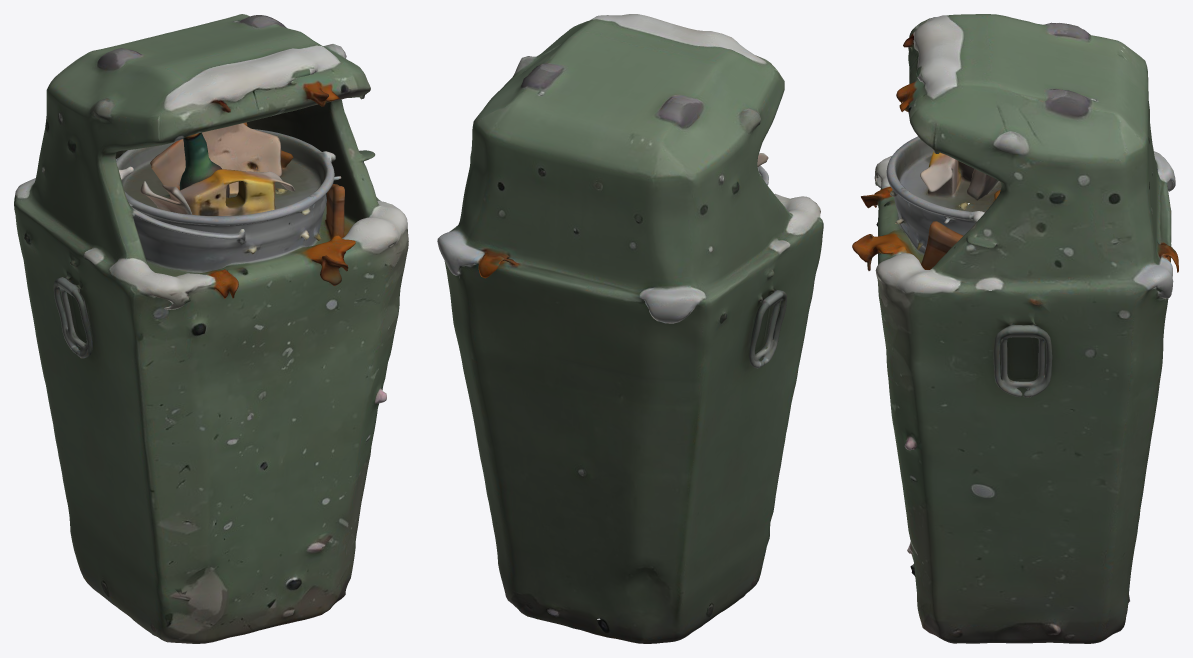
Rendered from g67_urn.glb.
3 renders of one model, left to right at view 1: azimuth 30°, elevation 25°; view 2: azimuth 150°, elevation 25°; view 3: azimuth 270°, elevation 25°, orthographic. The views are drawn at different scales.
Visible parts, largest first — view 1: tripo_node_994163ea; view 2: tripo_node_994163ea; view 3: tripo_node_994163ea.
Part boxes in pixels (box(x1,y1,x2,y2)): tripo_node_994163ea: box(14, 14, 408, 643); tripo_node_994163ea: box(437, 14, 823, 643); tripo_node_994163ea: box(852, 14, 1178, 643).
Size of the model in its own units: 54.42 by 97.89 by 51.79.
Materials: 1 (1 with a texture image).
